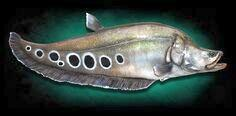Knifefish: (4, 13, 231, 94)
